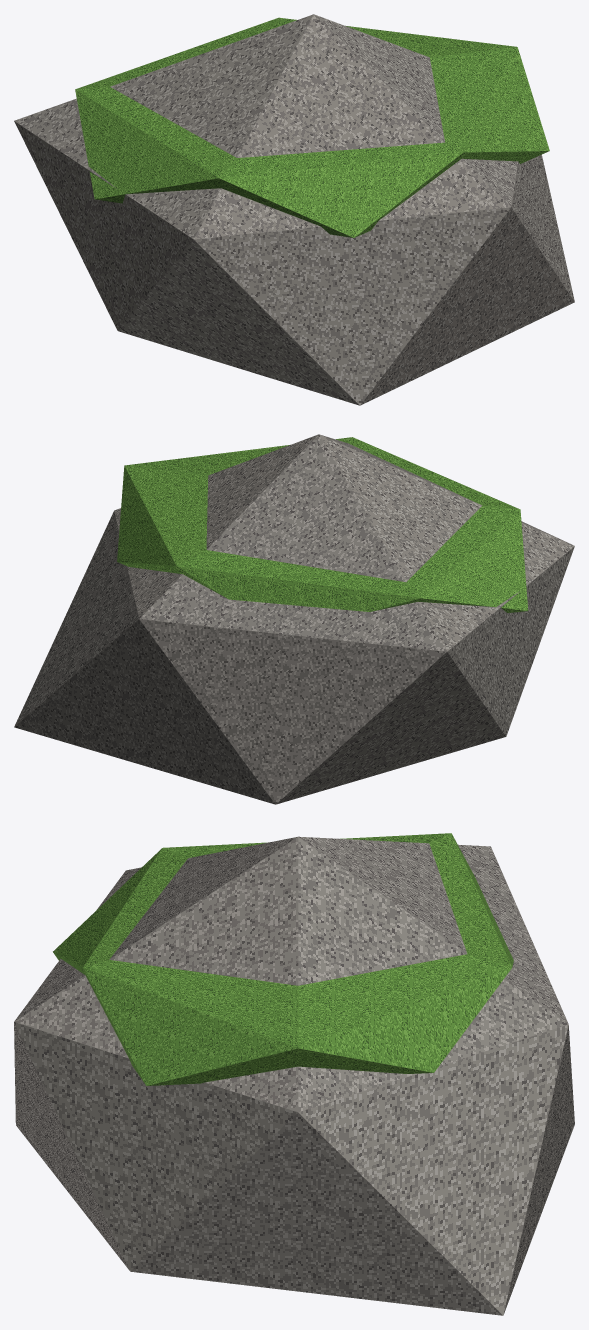
File: rock_mossy.glb
3 views of the same model, one above another, from view 1: azimuth 30°, elevation 25°; view 2: azimuth 150°, elevation 25°; view 3: azimuth 270°, elevation 25° (orthographic). The views are drawn at different scales.
Parts seen in each view (by area): view 1: Body.016; view 2: Body.016; view 3: Body.016.
Part boxes in pixels (x1=…): Body.016: x1=14, y1=14, x2=574, y2=405; Body.016: x1=14, y1=434, x2=574, y2=804; Body.016: x1=14, y1=833, x2=574, y2=1315.
Size of the model in its own units: 1.86 by 1.44 by 1.73.
2 materials, 2 textured.
